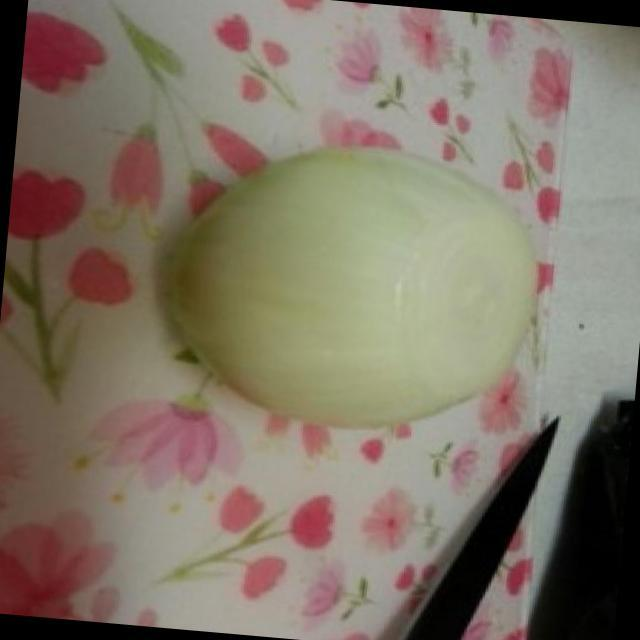Onion: (170, 144, 540, 428)
